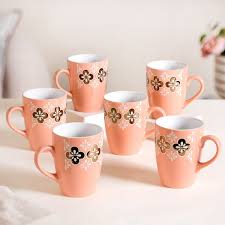mug: (32, 114, 126, 205), (5, 73, 85, 149), (150, 116, 222, 198), (139, 56, 218, 129), (54, 41, 124, 115), (103, 77, 151, 161)
